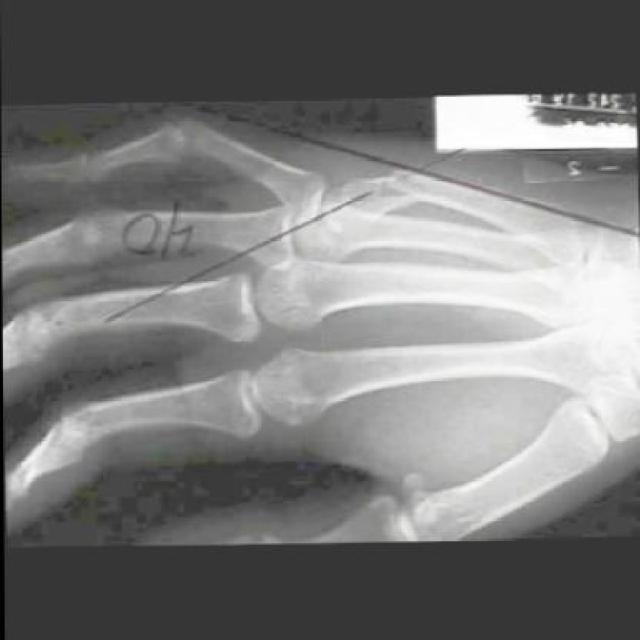Fracture: (365, 166, 426, 217)
